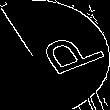P_SW: (15, 27, 95, 83)
